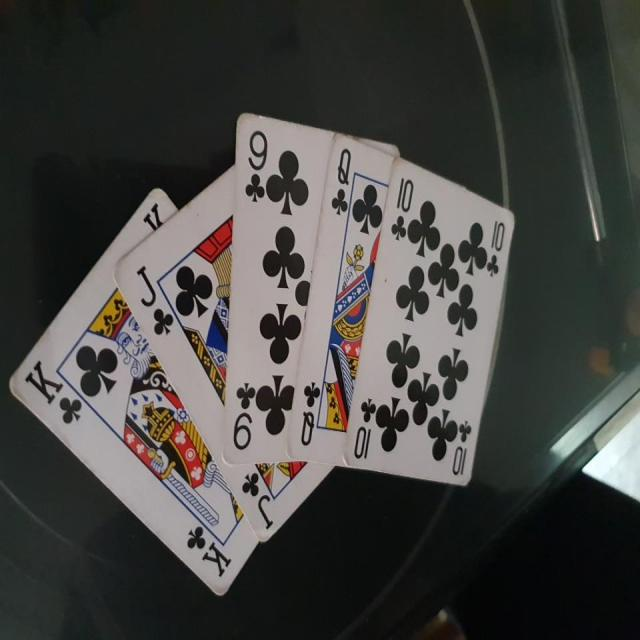10 Trefoils: (340, 156, 517, 490)
9 Trefoils: (220, 110, 397, 470)
J Trefoils: (110, 160, 335, 543)
K Trefoils: (9, 188, 258, 600)
Q Trefoils: (284, 131, 393, 465)
